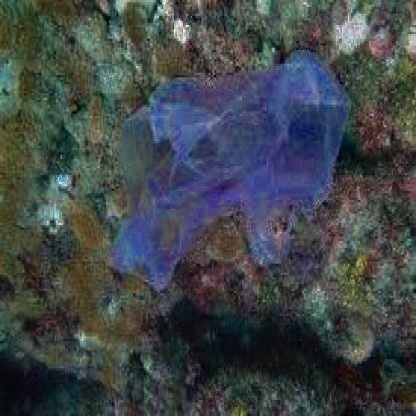pbag: (109, 48, 352, 298)
